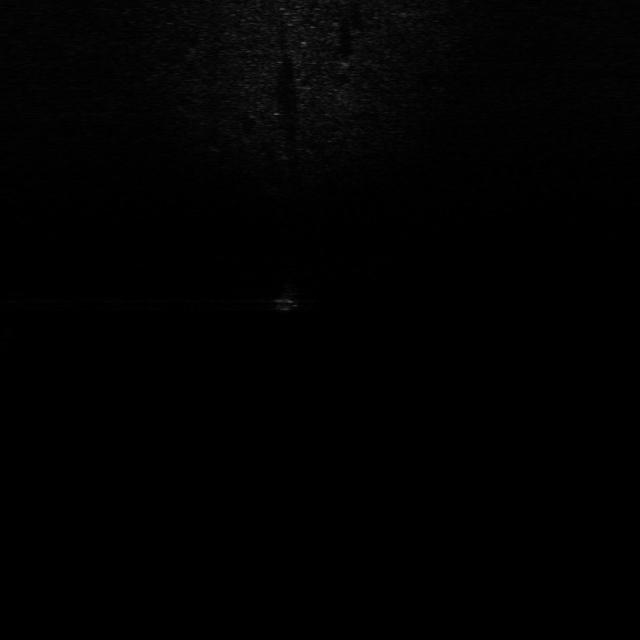human body: (274, 274, 300, 316)
